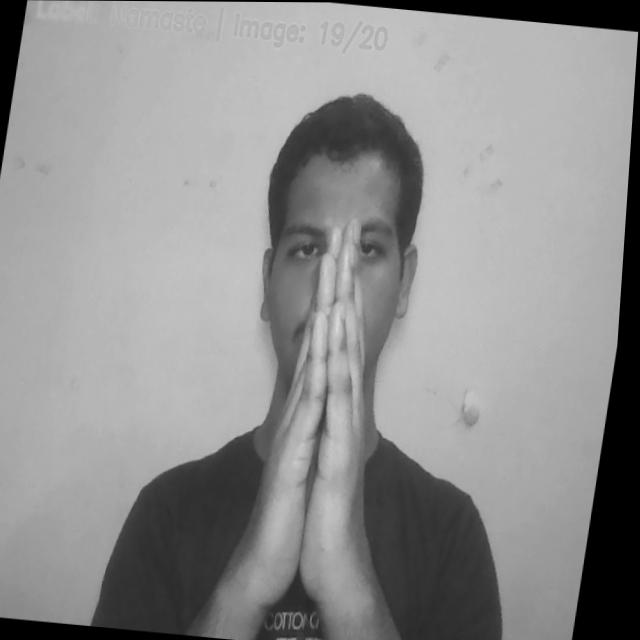Namaste: (259, 211, 399, 602)
